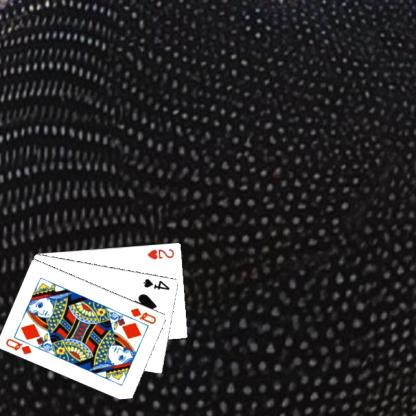2H: (145, 245, 176, 260)
4S: (141, 275, 171, 291)
QD: (3, 336, 34, 356), (128, 305, 158, 325)
